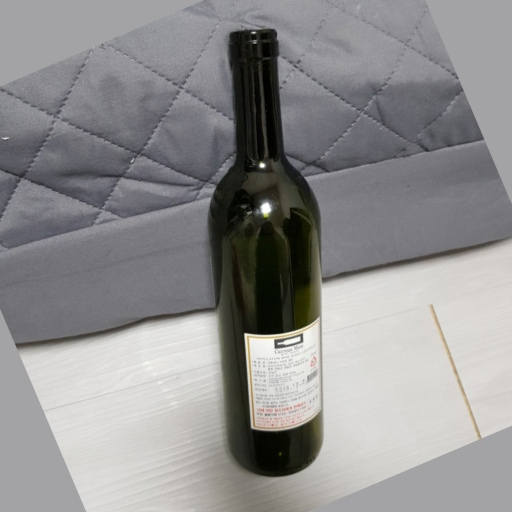Glass_2: (198, 25, 334, 476)
